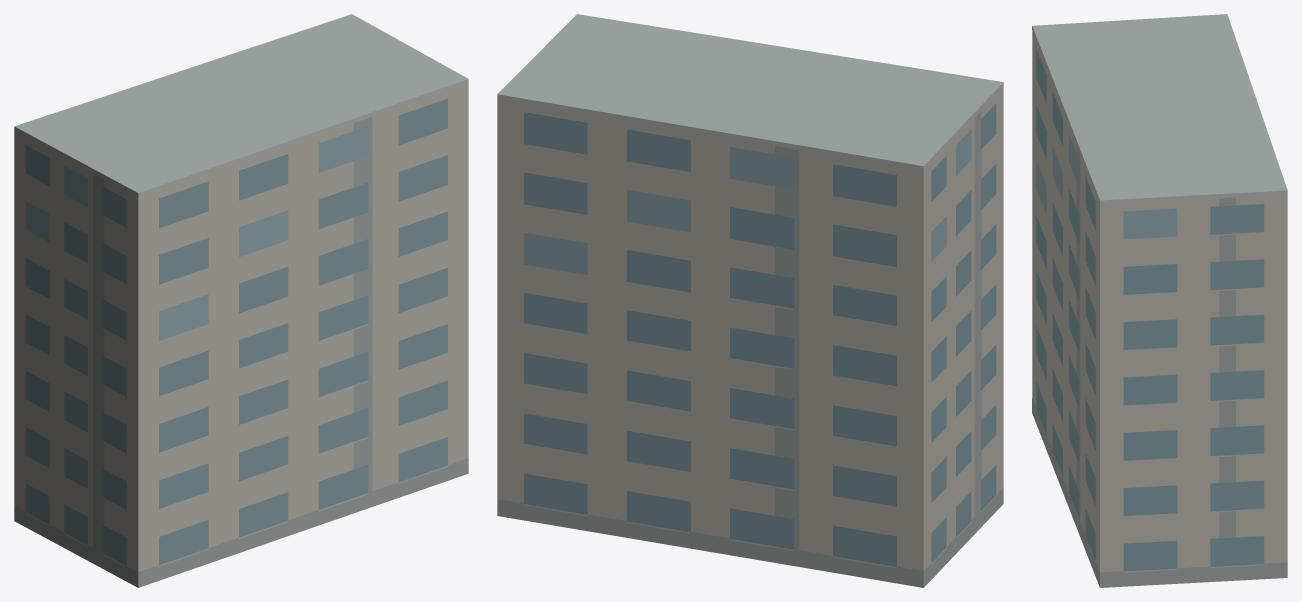
The model's file is survey-upis-32827701.glb.
3 views of the same model, side by side, from view 1: azimuth 30°, elevation 25°; view 2: azimuth 150°, elevation 25°; view 3: azimuth 270°, elevation 25° (orthographic). The views are drawn at different scales.
Parts seen in each view (by area): view 1: survey-upis-32827701.tmp; view 2: survey-upis-32827701.tmp; view 3: survey-upis-32827701.tmp.
Part boxes in pixels (<box>): survey-upis-32827701.tmp: <box>14,14,468,587</box>; survey-upis-32827701.tmp: <box>497,14,1003,587</box>; survey-upis-32827701.tmp: <box>1032,14,1287,587</box>.
Bounding box in the file's own units: 22.05 × 21.35 × 12.77.
